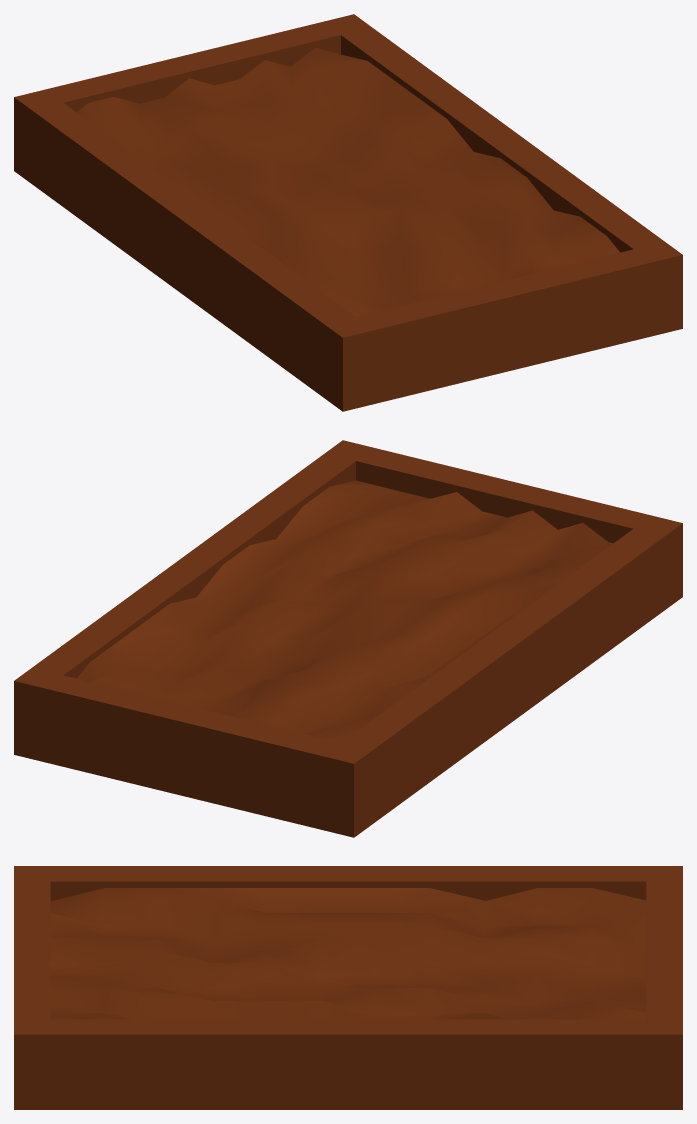
The model's file is field.fbx.
The picture shows the model from 3 angles, top to bottom: view 1: azimuth 30°, elevation 25°; view 2: azimuth 150°, elevation 25°; view 3: azimuth 270°, elevation 25°; orthographic projection.
Parts seen in each view (by area): view 1: field; view 2: field; view 3: field.
Part boxes in pixels (box(x1,y1,x2,y2)): field: box(14, 14, 682, 411); field: box(14, 440, 682, 837); field: box(14, 866, 682, 1109).
Bounding box in the file's own units: 1.19 × 0.248 × 2.
